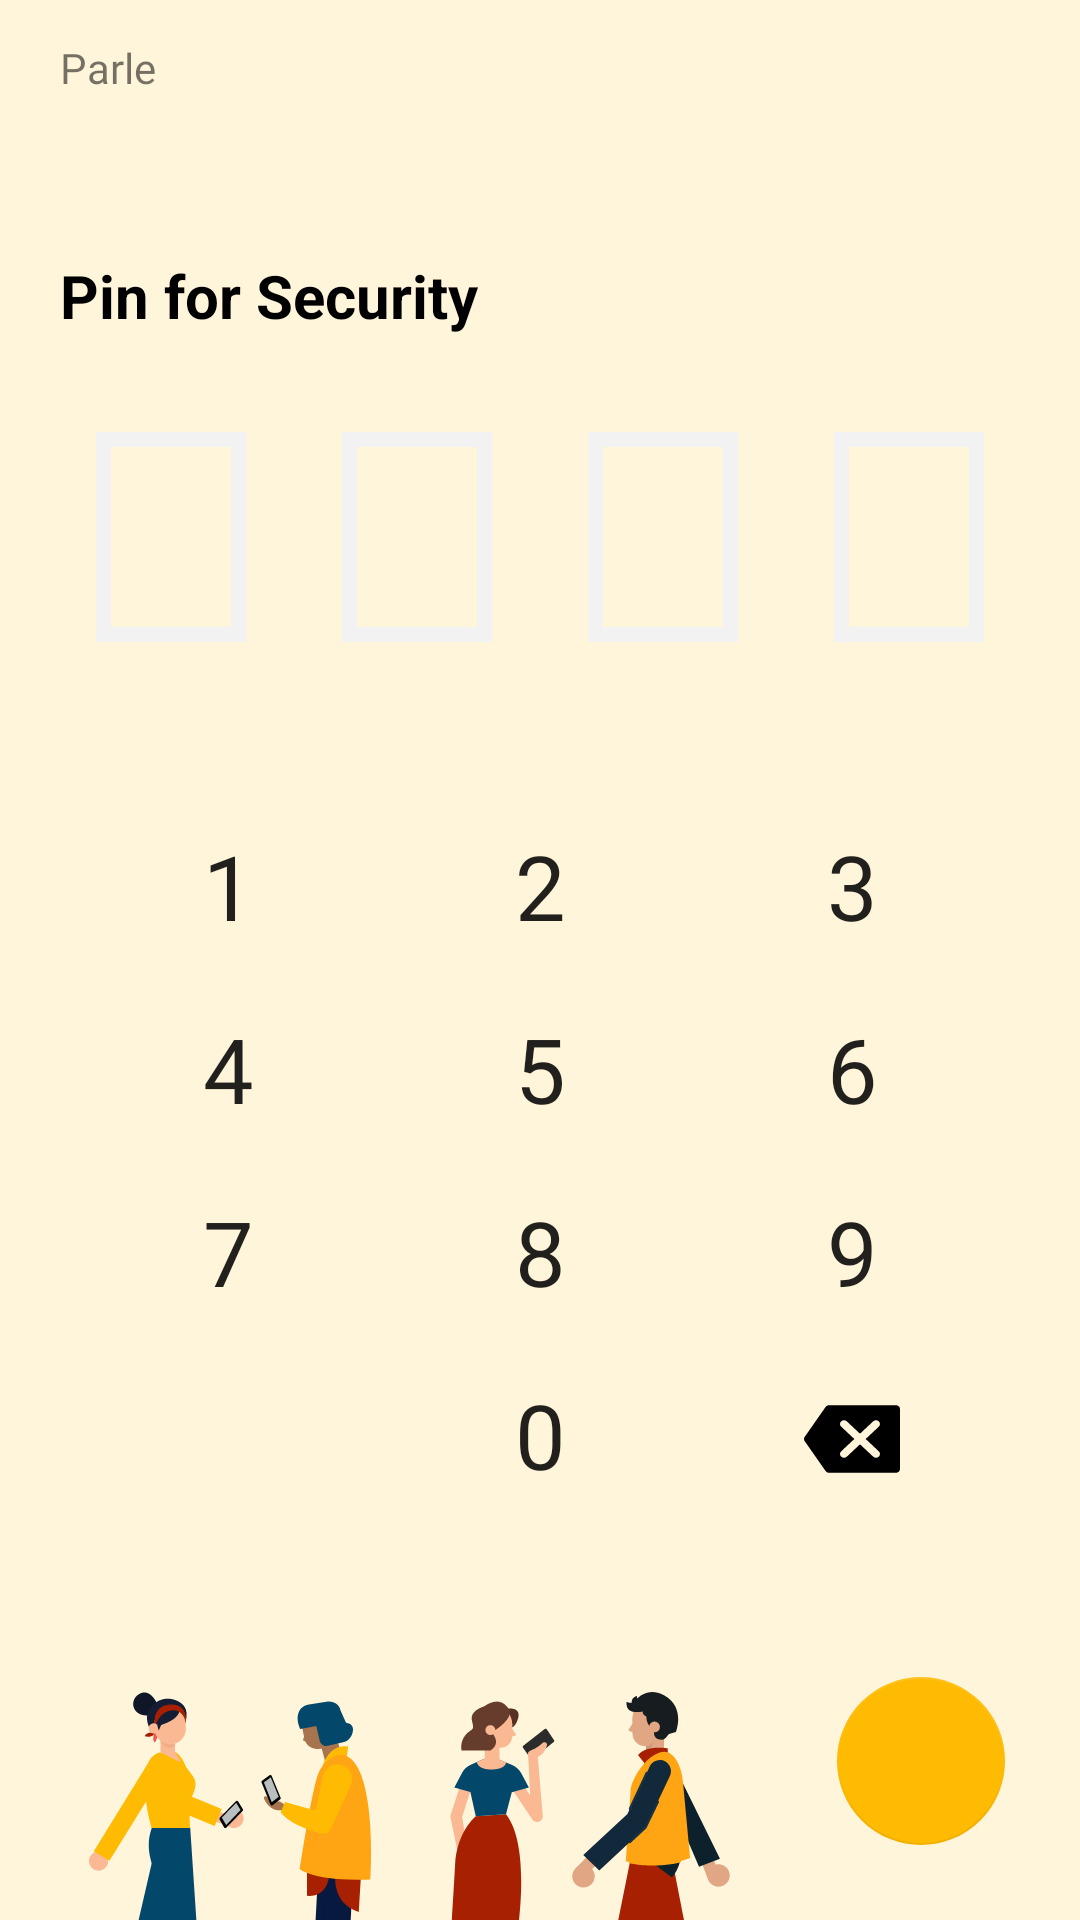

Icons on this 1080 x 1920 Android screen, each with its box as (x1,y1,x2,y2):
backspace: (804,1405,900,1473)
